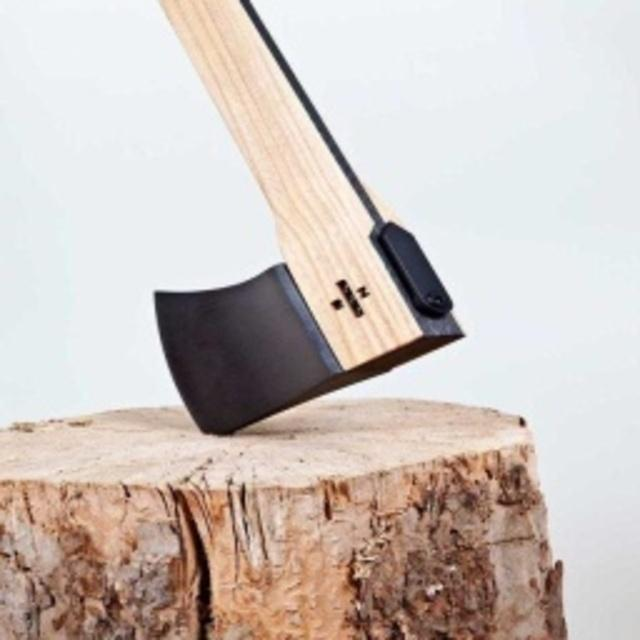ax: (137, 0, 474, 443)
